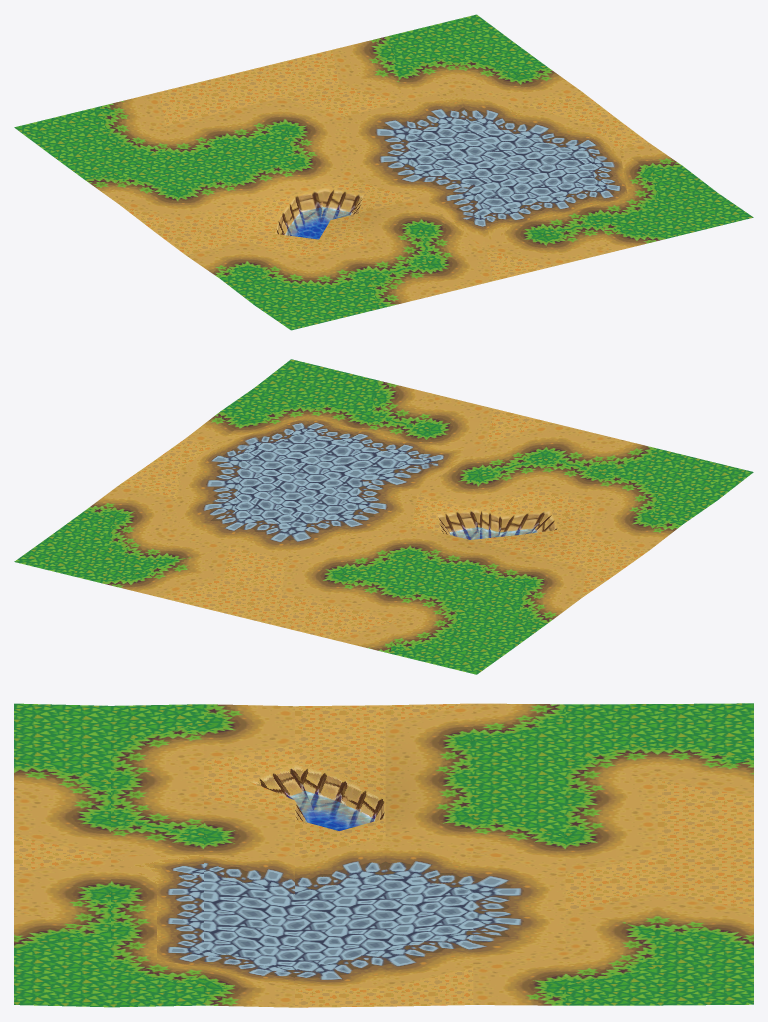
File: c_grd_f_h_3.001.glb
3 views of the same model, one above another, from view 1: azimuth 30°, elevation 25°; view 2: azimuth 150°, elevation 25°; view 3: azimuth 270°, elevation 25° (orthographic). The views are drawn at different scales.
Visible parts, largest first — view 1: c_grd_f_h_3.001; view 2: c_grd_f_h_3.001; view 3: c_grd_f_h_3.001.
Part boxes in pixels (box(x1,y1,x2,y2)): c_grd_f_h_3.001: box(14, 14, 753, 330); c_grd_f_h_3.001: box(14, 359, 753, 674); c_grd_f_h_3.001: box(14, 703, 753, 1007).
Bounding box in the file's own units: 32 × 4.02 × 33.2.
Materials: 7 (7 with a texture image).
